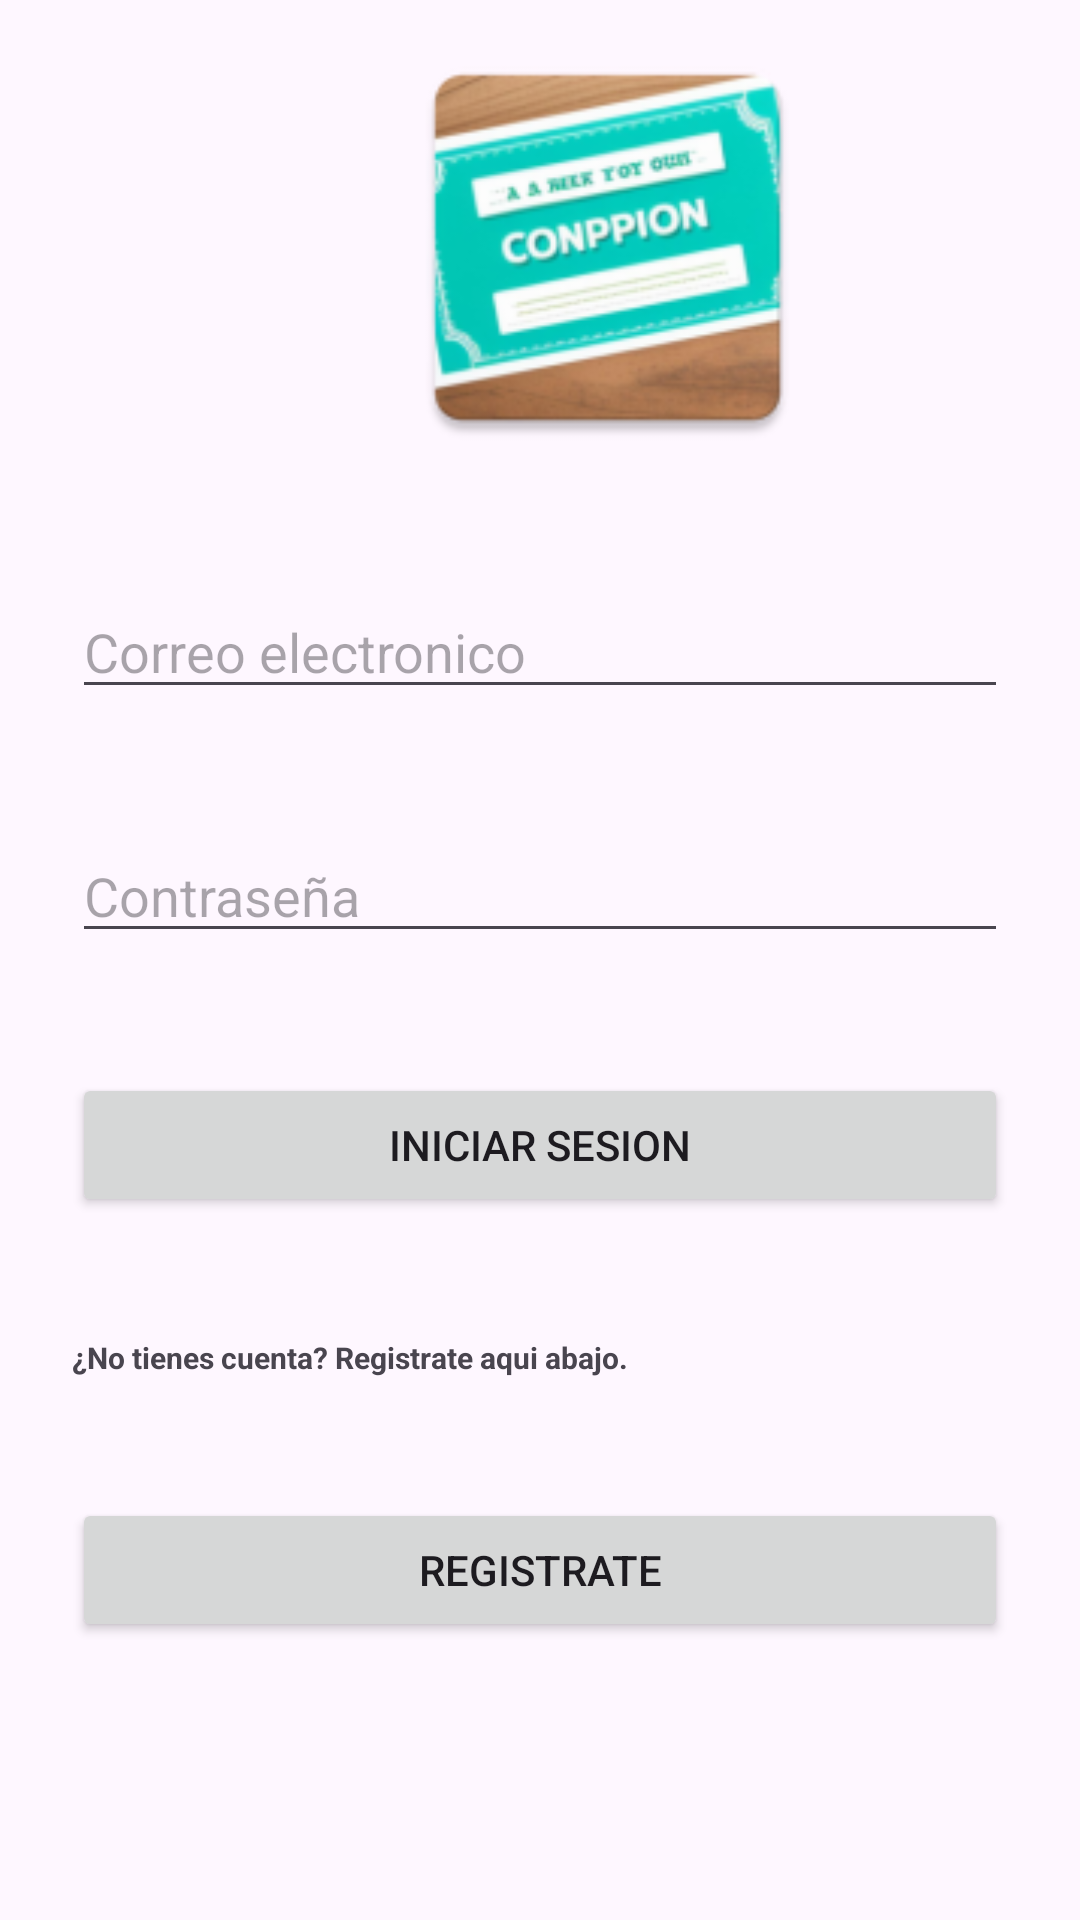

Icons on this 1080px x 1920px Android screen, each with its box as rect(x1, y1, x2, y2):
cupon: rect(432, 74, 783, 431)
